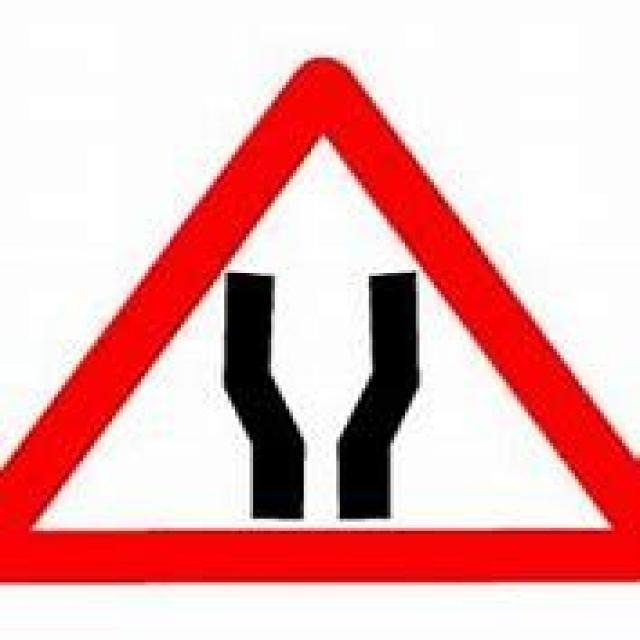do_not_turn_right: (0, 51, 636, 582)
